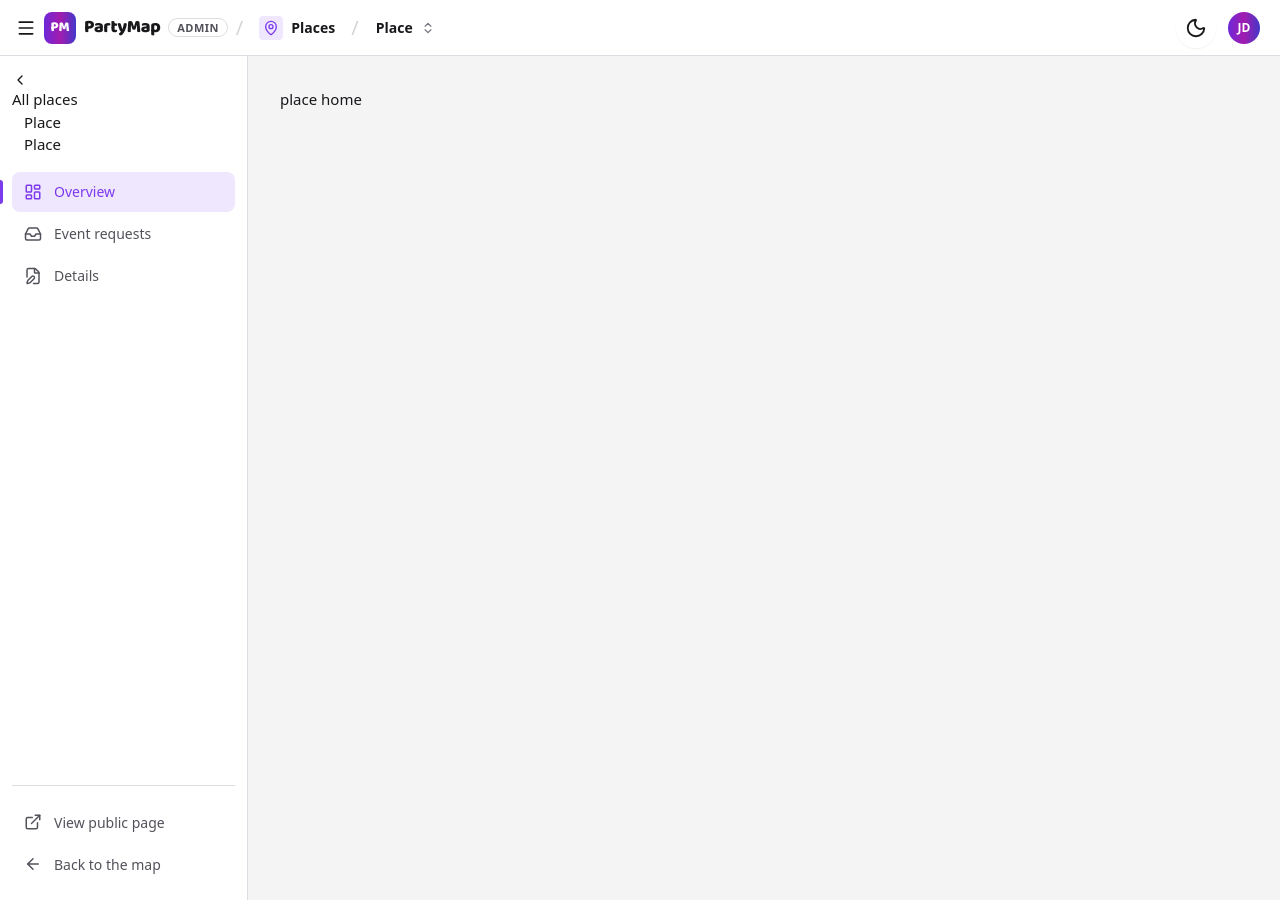
Scenario: AdminShell › a place's own area › names an unknown place by its kind and asks nothing without the manager role
The image size is (1280, 900).
Click the button with aria-label "Place: Place. Switch place".
click(405, 28)  # box [367,10,444,46]
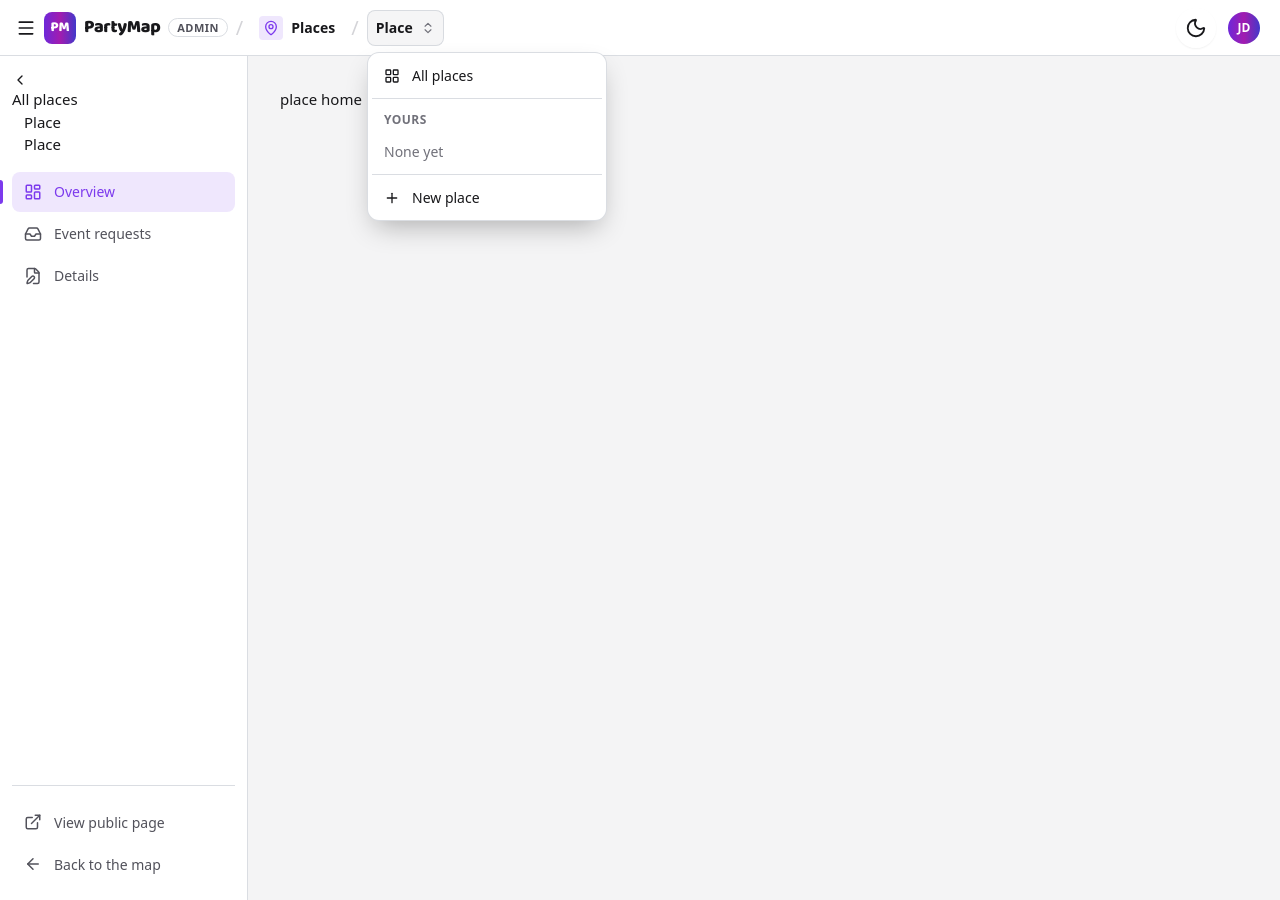
Expected: the text "None yet" is shown, [384,142,443,161]
